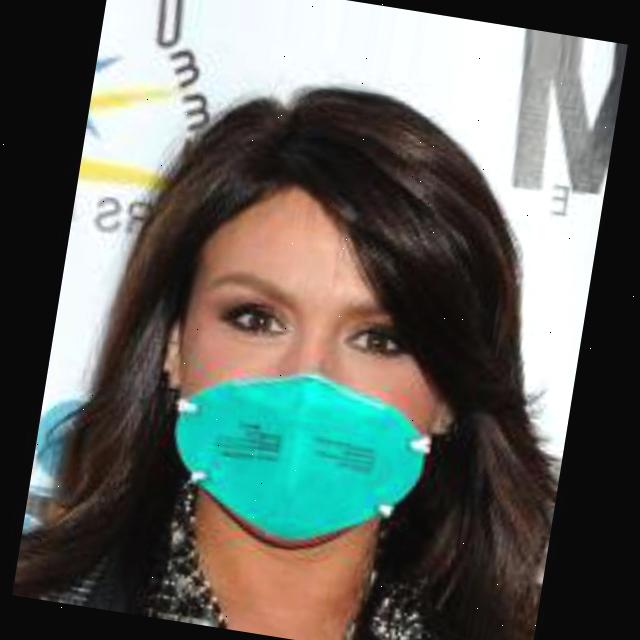suspicion: (116, 114, 508, 556)
